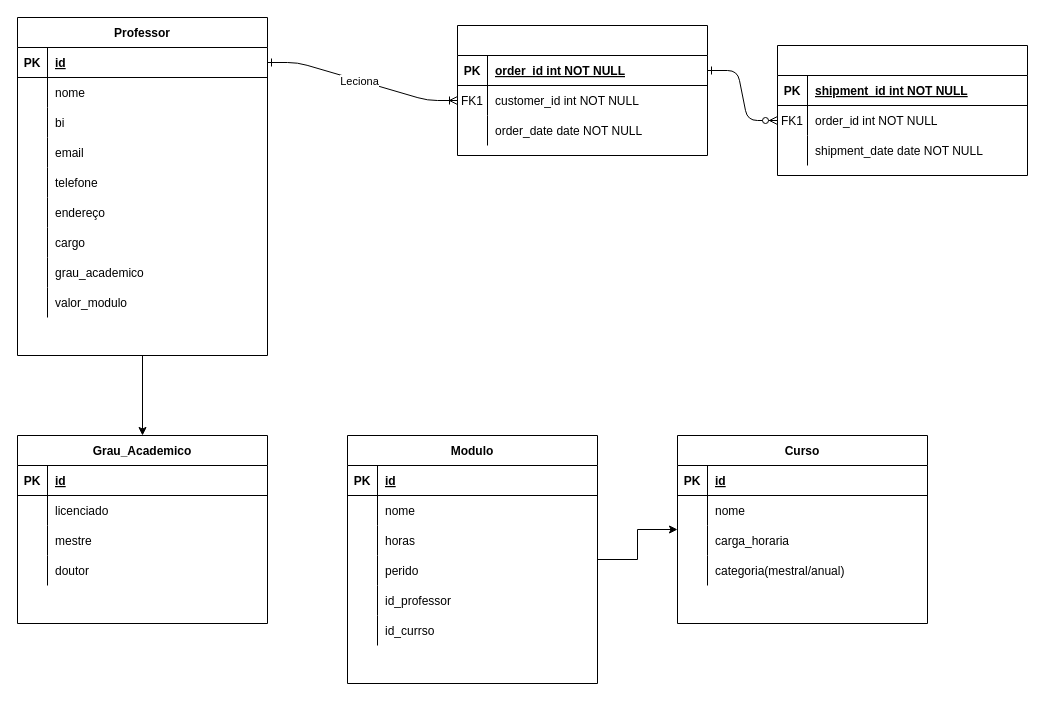
Some shapes in this 1045 by 701 pixel diagram are drawn without their labels. Here are the shapes that lost their labels. From the top down, the box of each, then its label:
(456, 24, 708, 156): Orders
(776, 44, 1028, 176): Shipments
